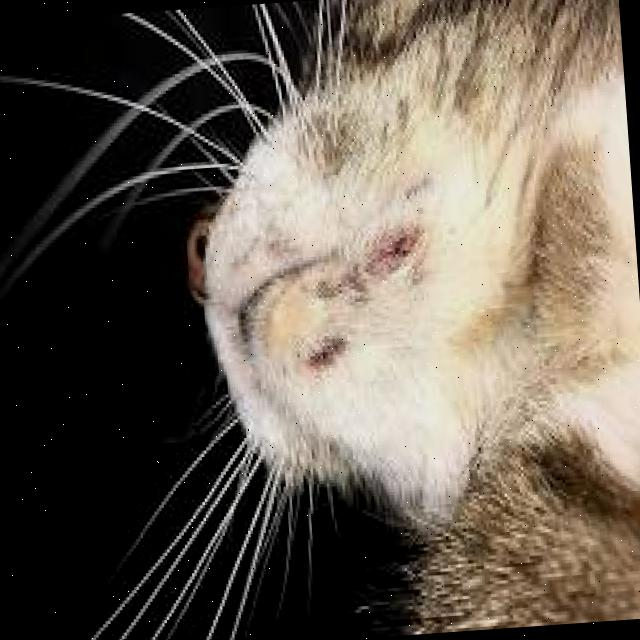cat-acne: (366, 227, 426, 274), (300, 339, 353, 368)
